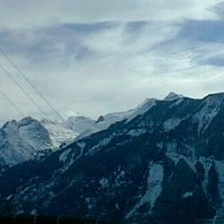neutral: (2, 25, 220, 224)
